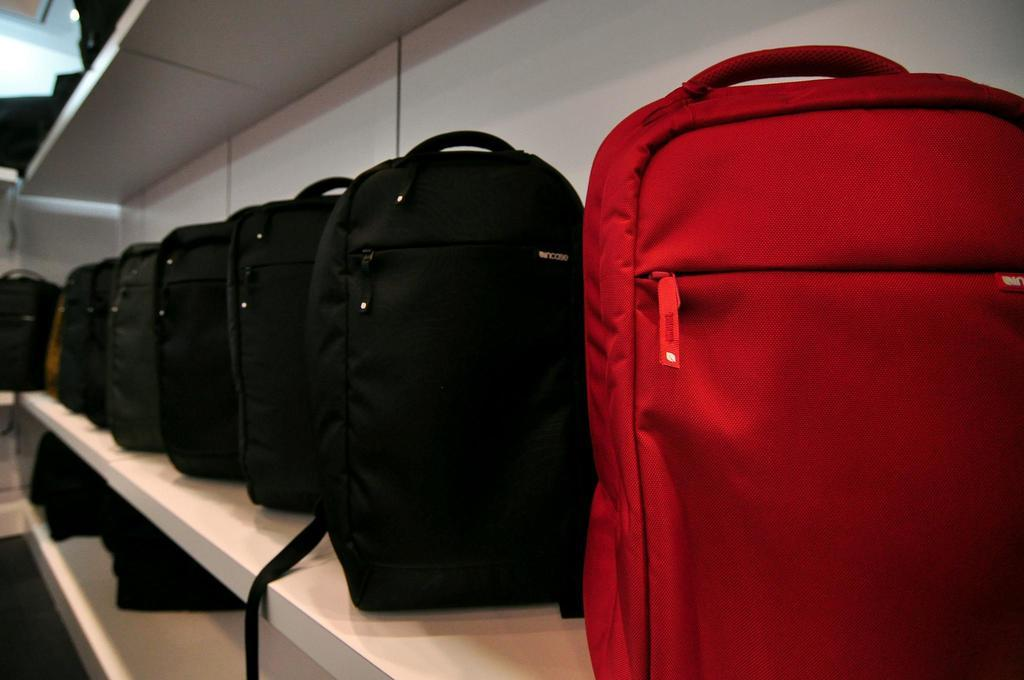Luggage-and-bags: (583, 39, 1023, 679), (244, 131, 589, 679), (215, 172, 367, 515), (152, 215, 227, 480), (99, 508, 246, 608), (105, 245, 165, 449), (51, 254, 120, 416), (0, 61, 88, 165), (26, 430, 109, 539), (0, 266, 56, 398), (68, 0, 135, 67)
